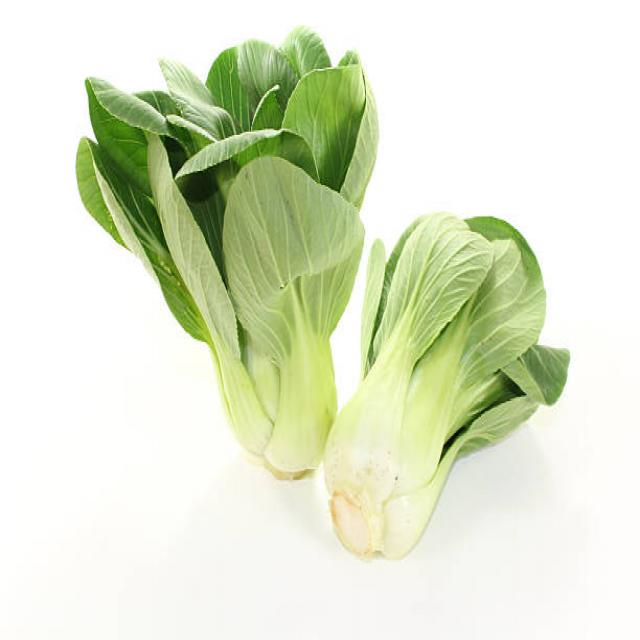bok choy: (90, 27, 333, 453), (366, 208, 550, 570)
